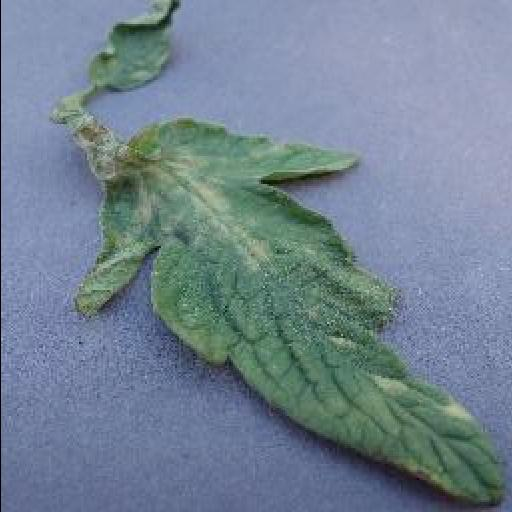disease_tomato: (76, 119, 510, 503)
